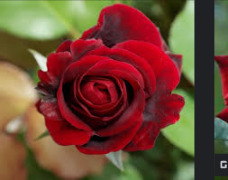RedRose: (39, 17, 178, 152)
